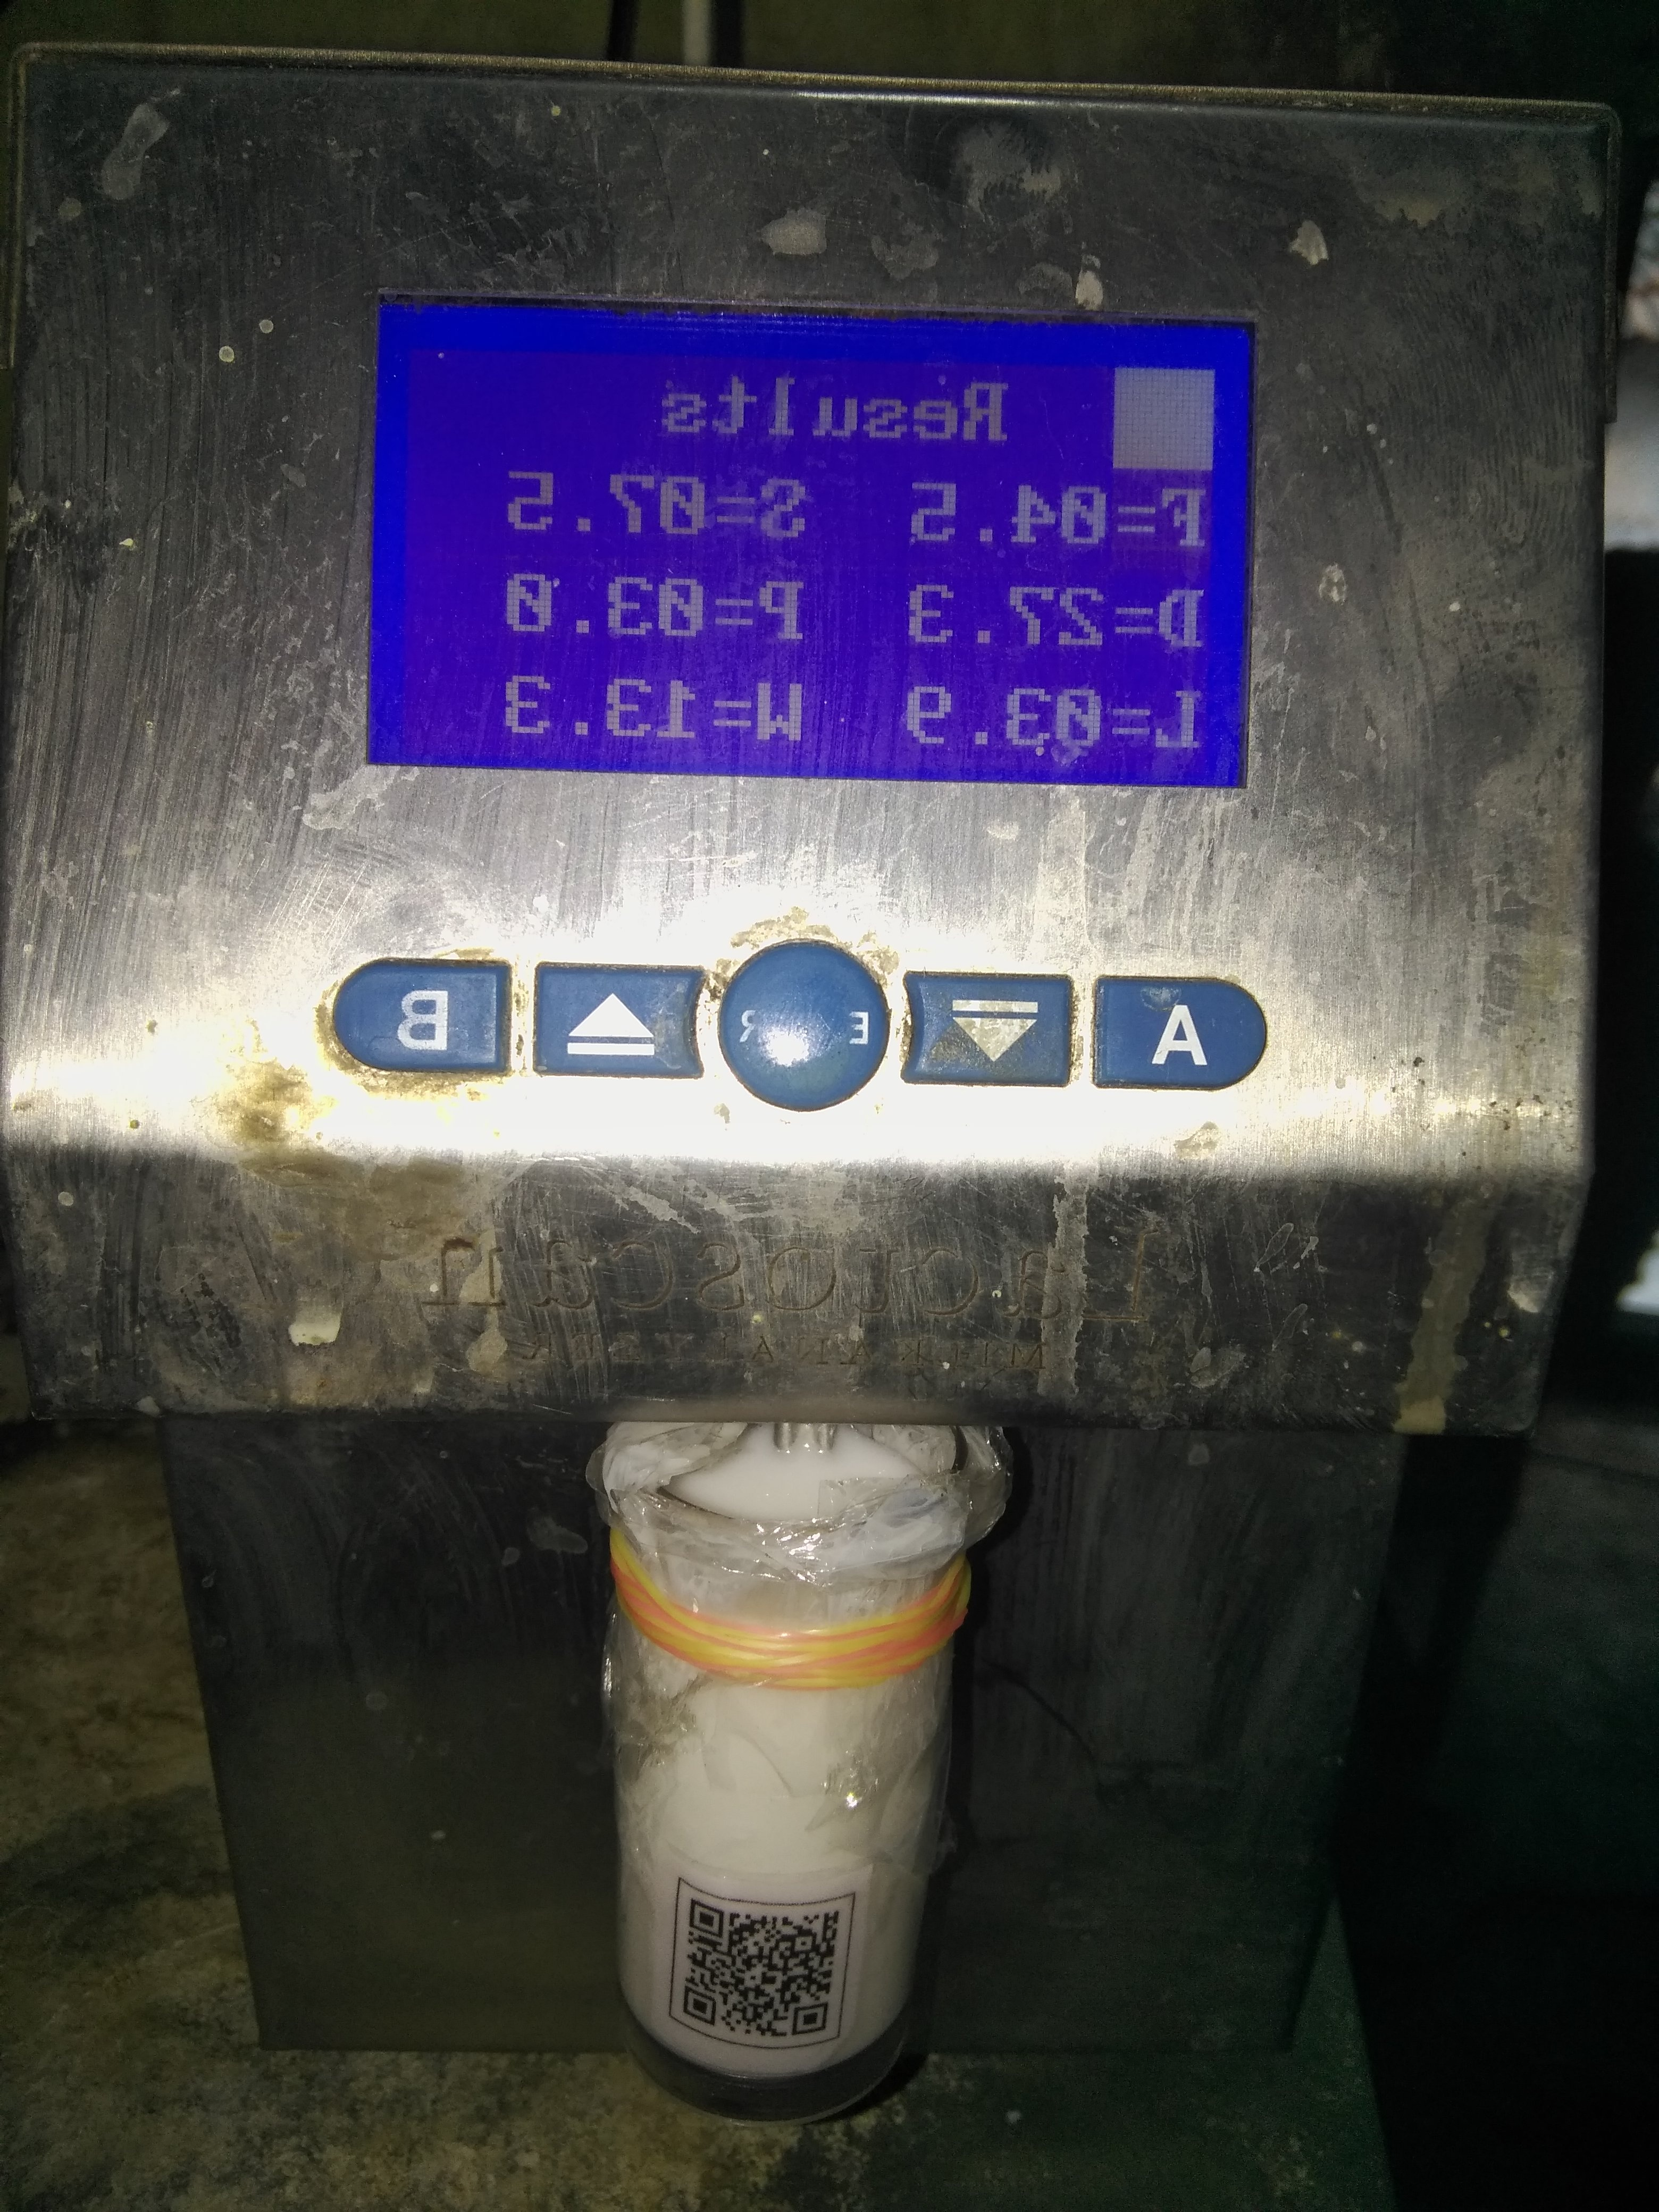lcd: (355, 277, 1295, 833)
qr: (647, 1867, 873, 2076)
